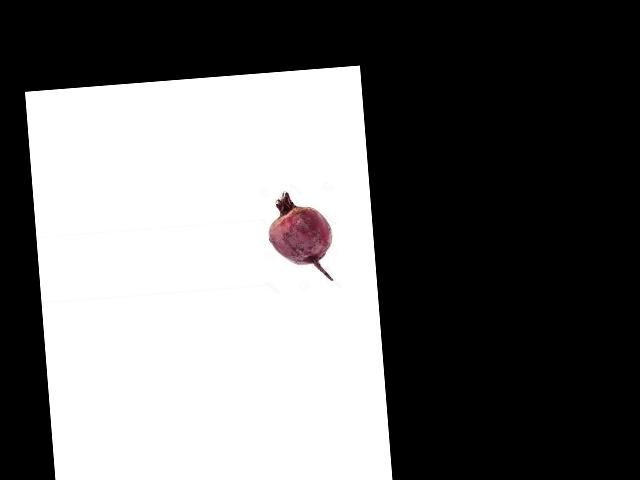beet: (266, 188, 335, 284)
